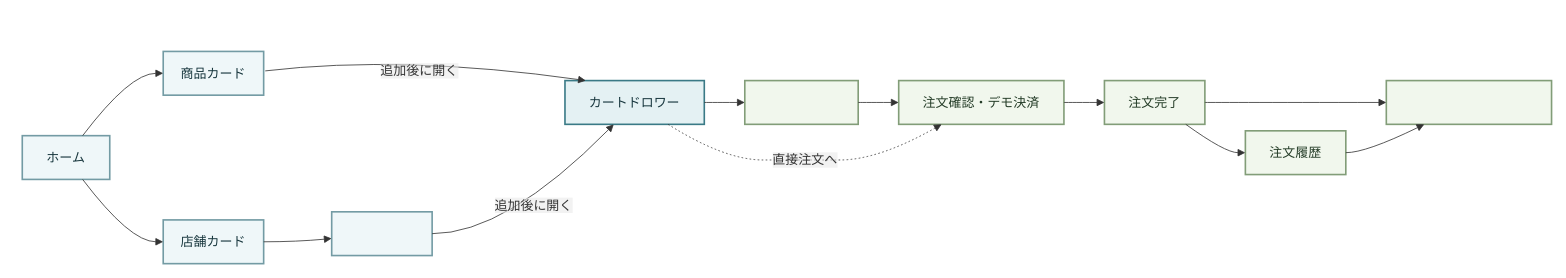
The diagram is 1566 pixels wide and 278 high, and some of its shapes have lost their labels. The centre of each missing label's shape, as x and y in pixels:
カート全体: the point at 801,102
店舗詳細: the point at 381,233
注文詳細・受取画面: the point at 1468,102
